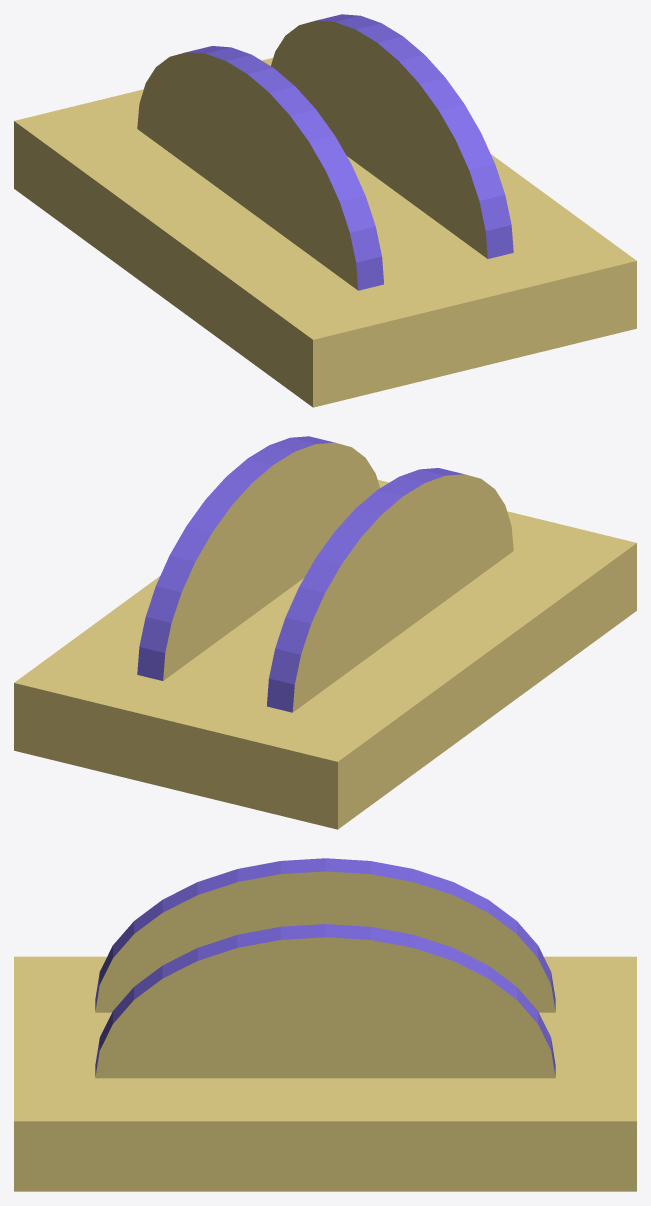
File: Lever_Stand.fbx
The picture shows the model from 3 angles, top to bottom: view 1: azimuth 30°, elevation 25°; view 2: azimuth 150°, elevation 25°; view 3: azimuth 270°, elevation 25°; orthographic projection. The views are drawn at different scales.
Visible parts, largest first — view 1: Lever_Stand; view 2: Lever_Stand; view 3: Lever_Stand.
Part boxes in pixels (box(x1,y1,x2,y2)): Lever_Stand: box(14, 14, 636, 407); Lever_Stand: box(14, 436, 636, 829); Lever_Stand: box(14, 858, 636, 1191).
Bounding box in the file's own units: 250 × 150 × 400.
